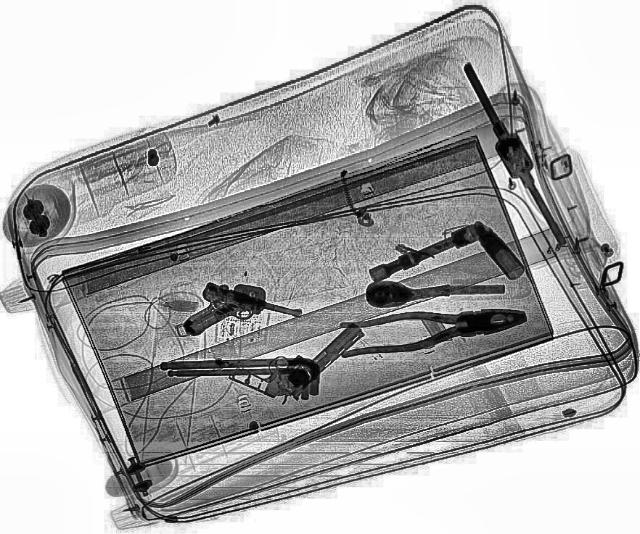Gun: (225, 296, 368, 410), (177, 276, 307, 360)
Pliers: (332, 295, 530, 361)
